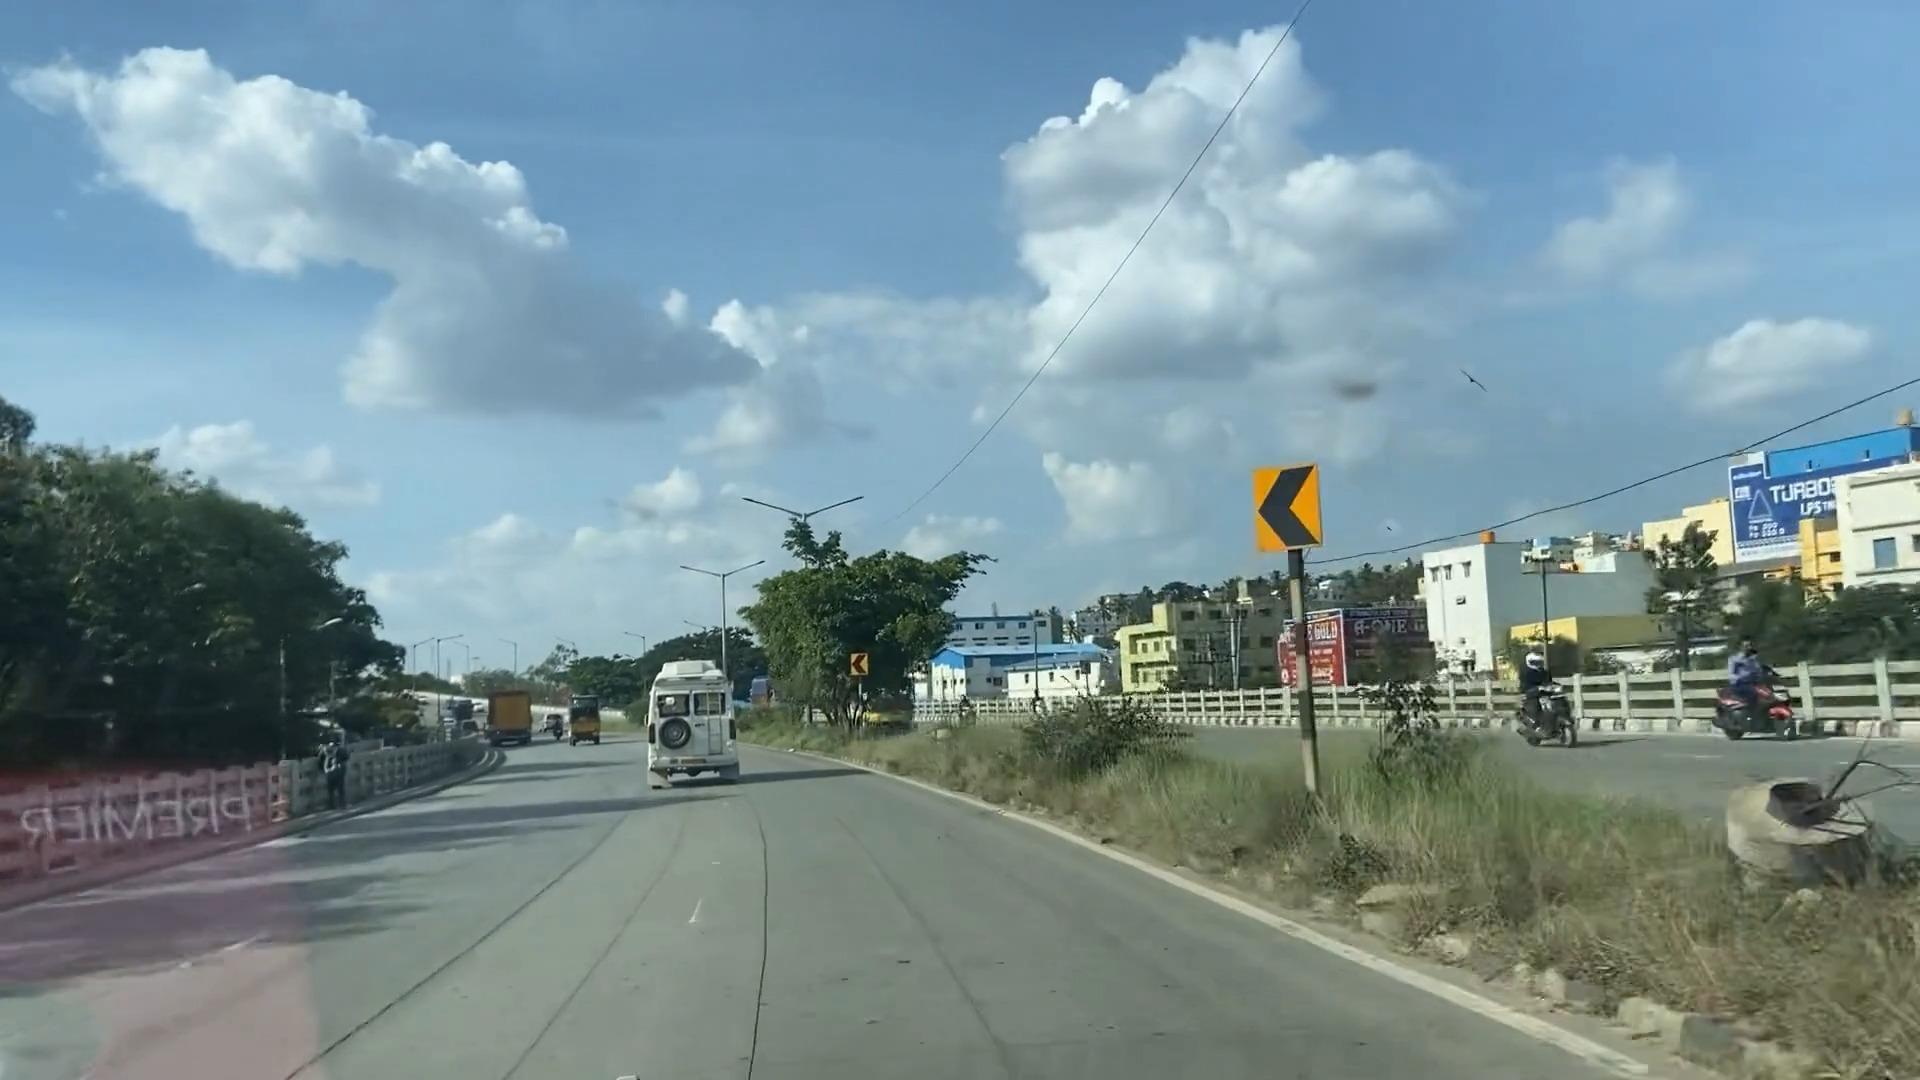HMV: (636, 648, 747, 786)
